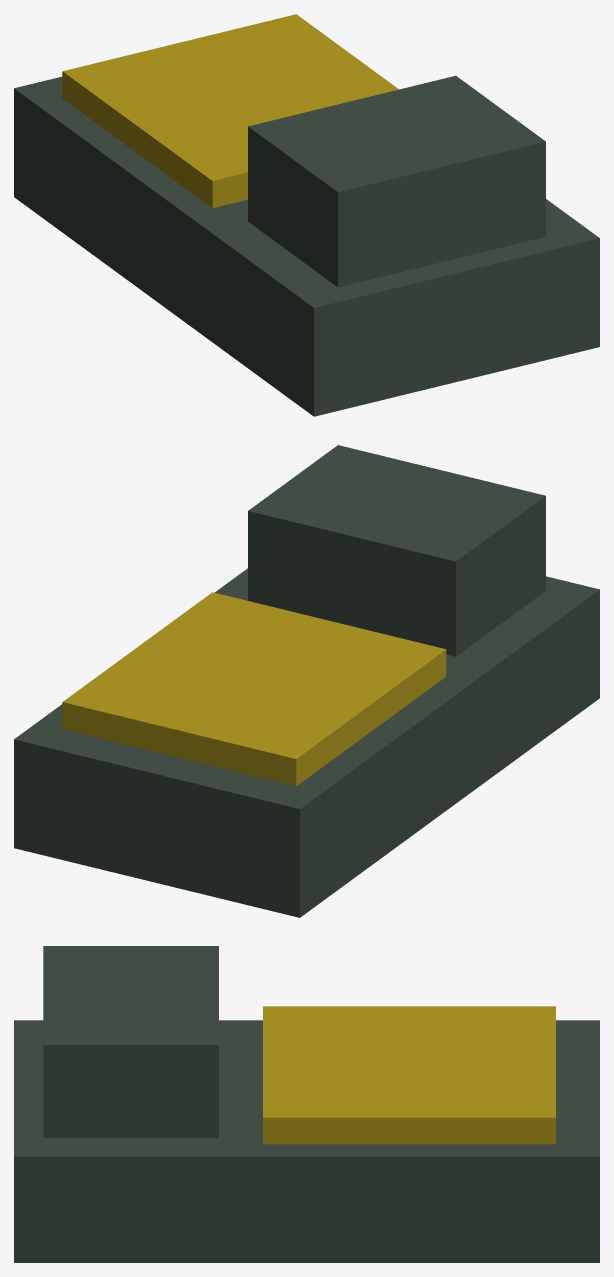
Rendered from heavy_mech_carrier.obj.
The picture shows the model from 3 angles, top to bottom: view 1: azimuth 30°, elevation 25°; view 2: azimuth 150°, elevation 25°; view 3: azimuth 270°, elevation 25°; orthographic projection. The views are drawn at different scales.
Visible parts, largest first — view 1: HeavyMechCarrier; view 2: HeavyMechCarrier; view 3: HeavyMechCarrier.
Part boxes in pixels (x1,y1,x2,y2): HeavyMechCarrier: [14, 14, 599, 416]; HeavyMechCarrier: [14, 445, 599, 917]; HeavyMechCarrier: [14, 946, 599, 1262].
Bounding box in the file's own units: 2.2 × 1.5 × 4.
